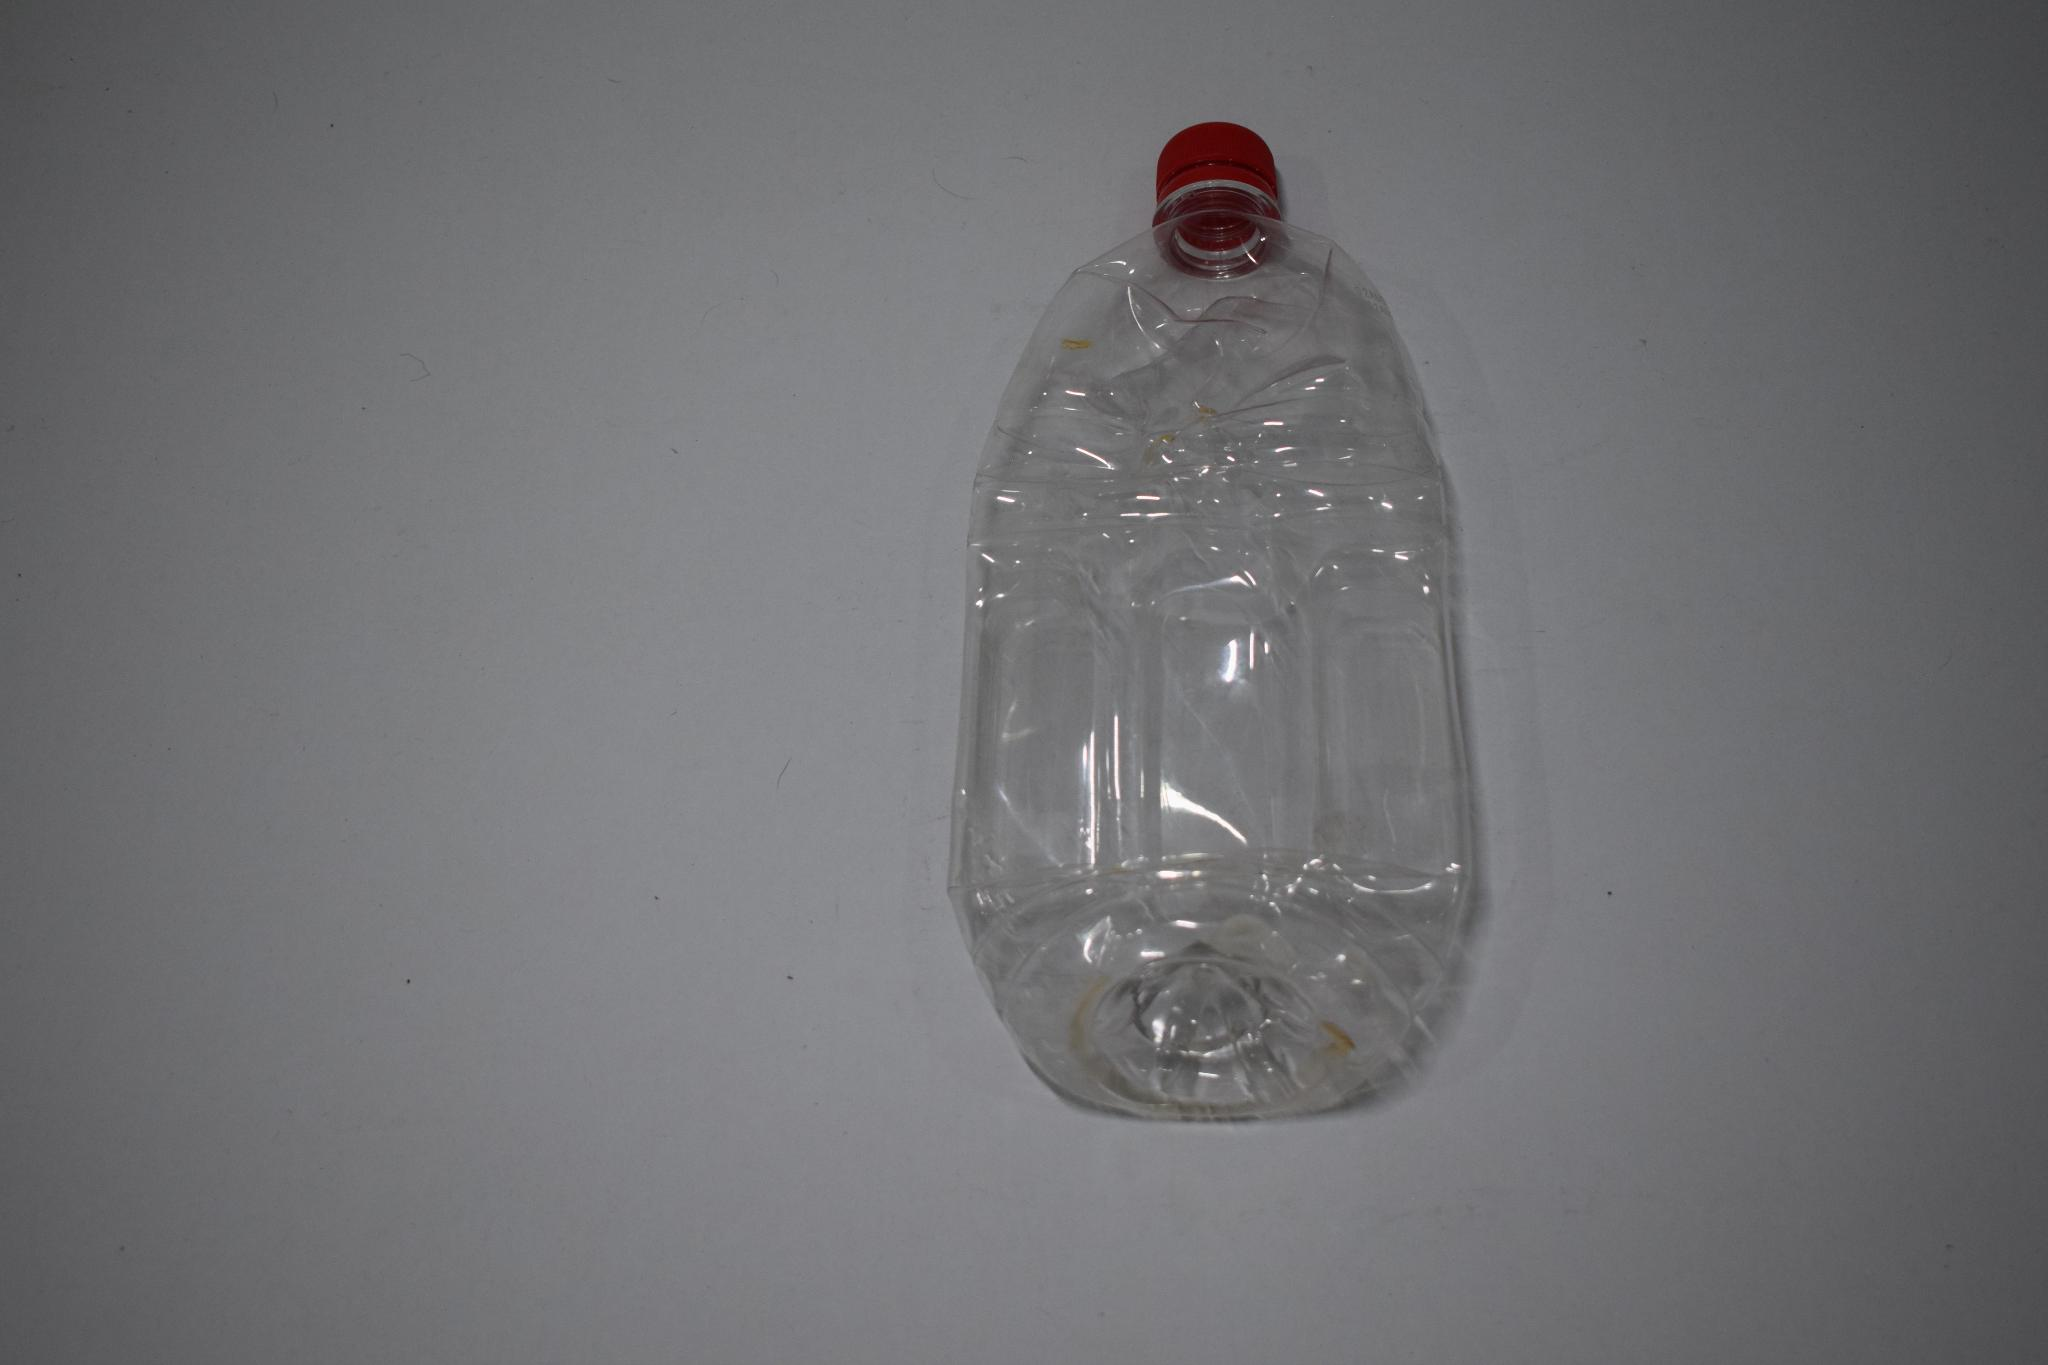bottle: (946, 128, 1503, 1141)
